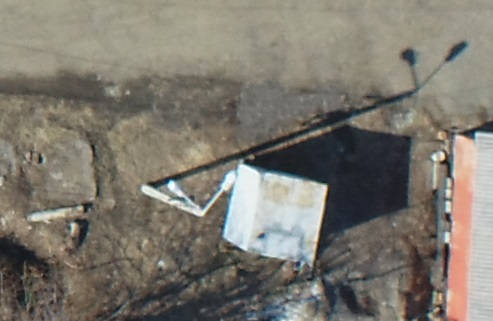opora: (138, 152, 239, 223)
